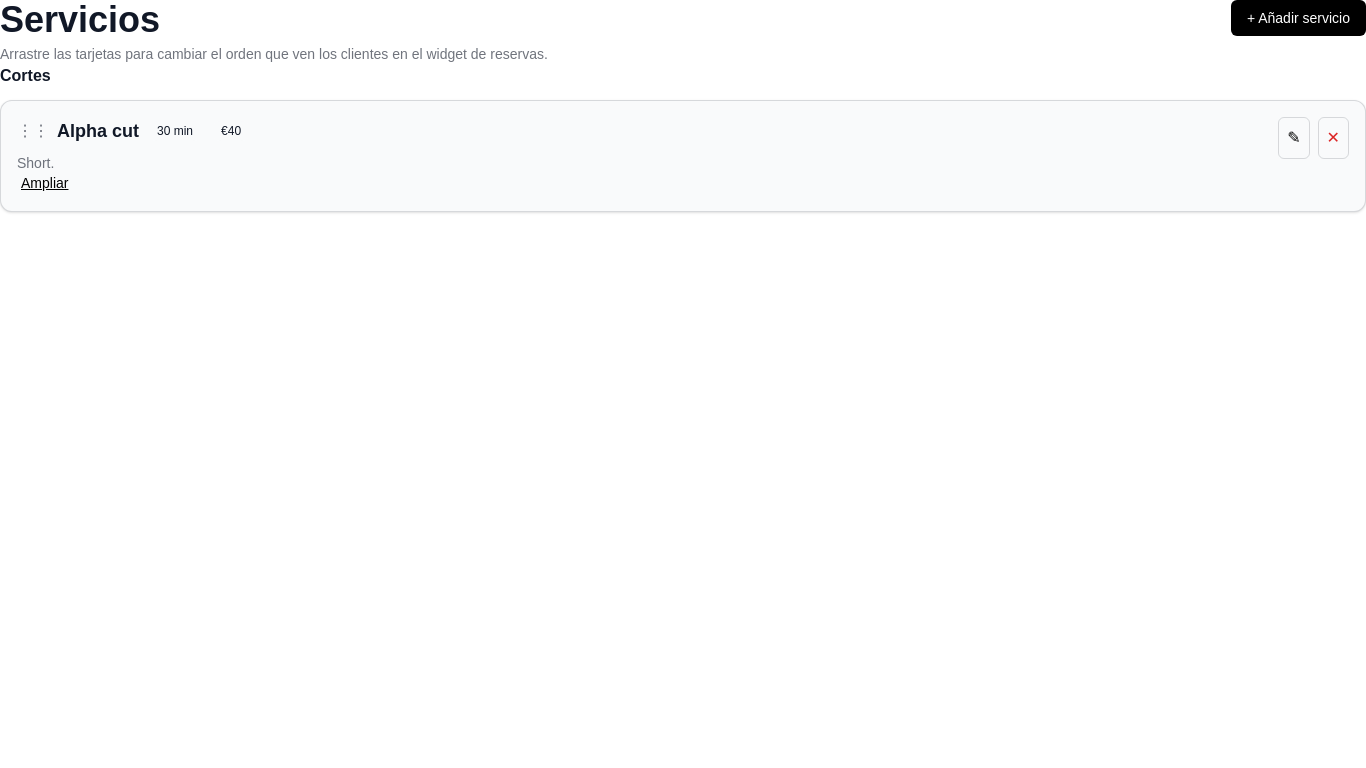
Test: AdminServicesPage › shows a category select when categories already exist
Check: the heading "Alpha cut" is shown, box [57,117,139,145]
Click the button "+ Añadir servicio" at (1298, 18), box [1231,0,1365,36]
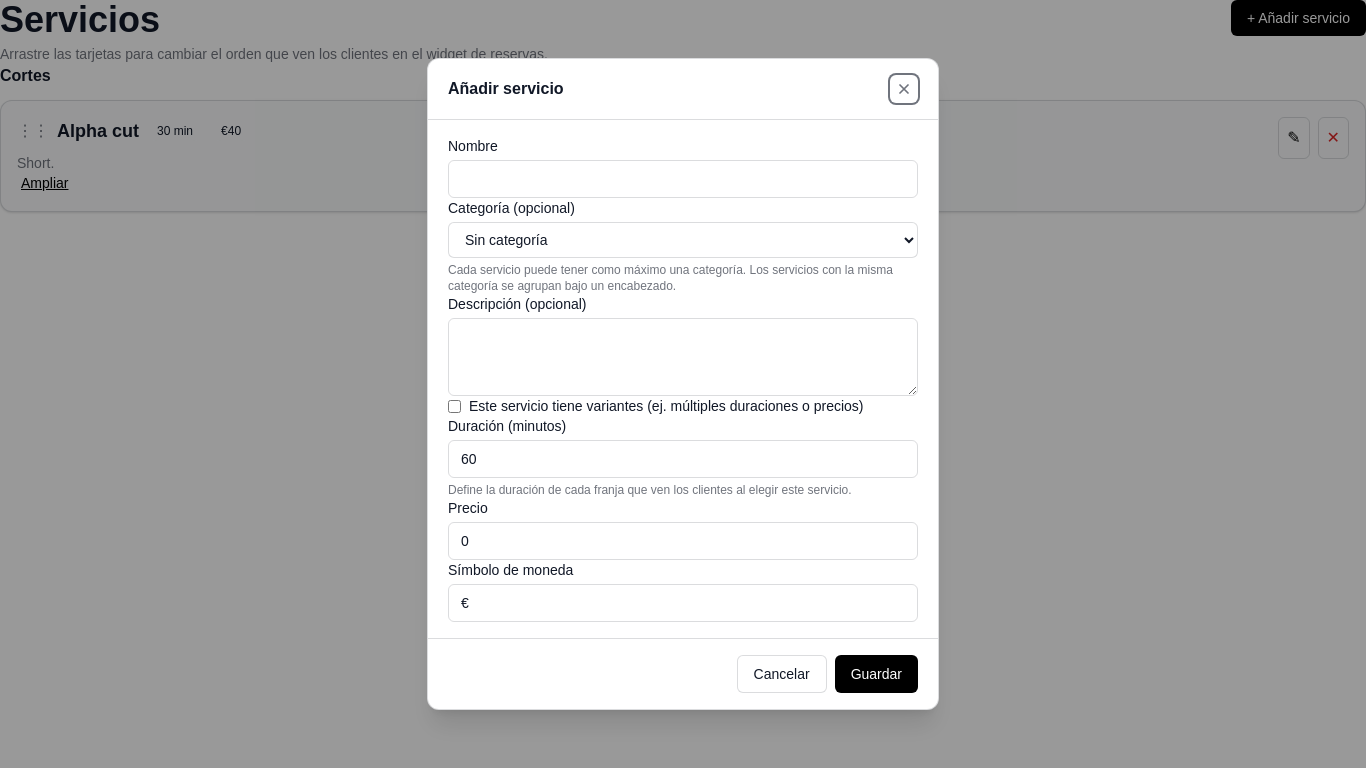
Check: the dropdown labelled "Categoría (opcional)" is shown, box [448,222,918,258]
